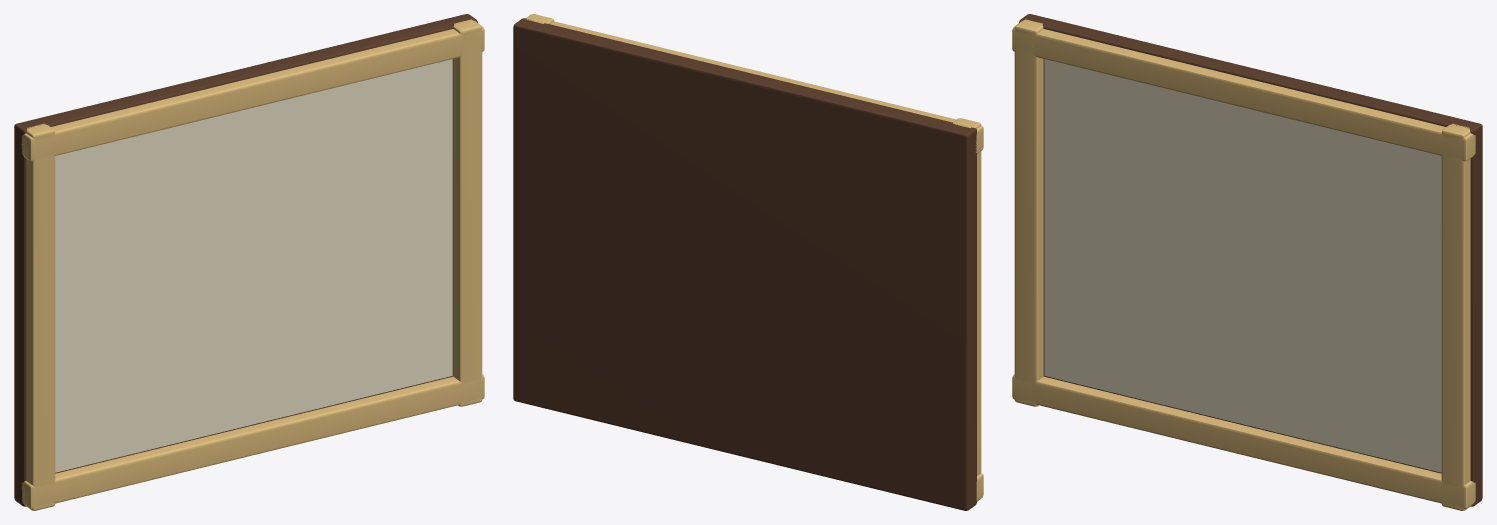
Rendered from bgd_bang_khen.glb.
The picture shows the model from 3 angles, left to right: view 1: azimuth 30°, elevation 25°; view 2: azimuth 150°, elevation 25°; view 3: azimuth 330°, elevation 25°; orthographic projection.
Parts seen in each view (by area): view 1: bgd_bang_khen; view 2: bgd_bang_khen; view 3: bgd_bang_khen.
Part boxes in pixels (x1,y1,x2,y2): bgd_bang_khen: (14,14,484,510); bgd_bang_khen: (513,14,983,510); bgd_bang_khen: (1012,14,1482,510).
Size of the model in its own units: 0.48 by 0.38 by 0.032.
